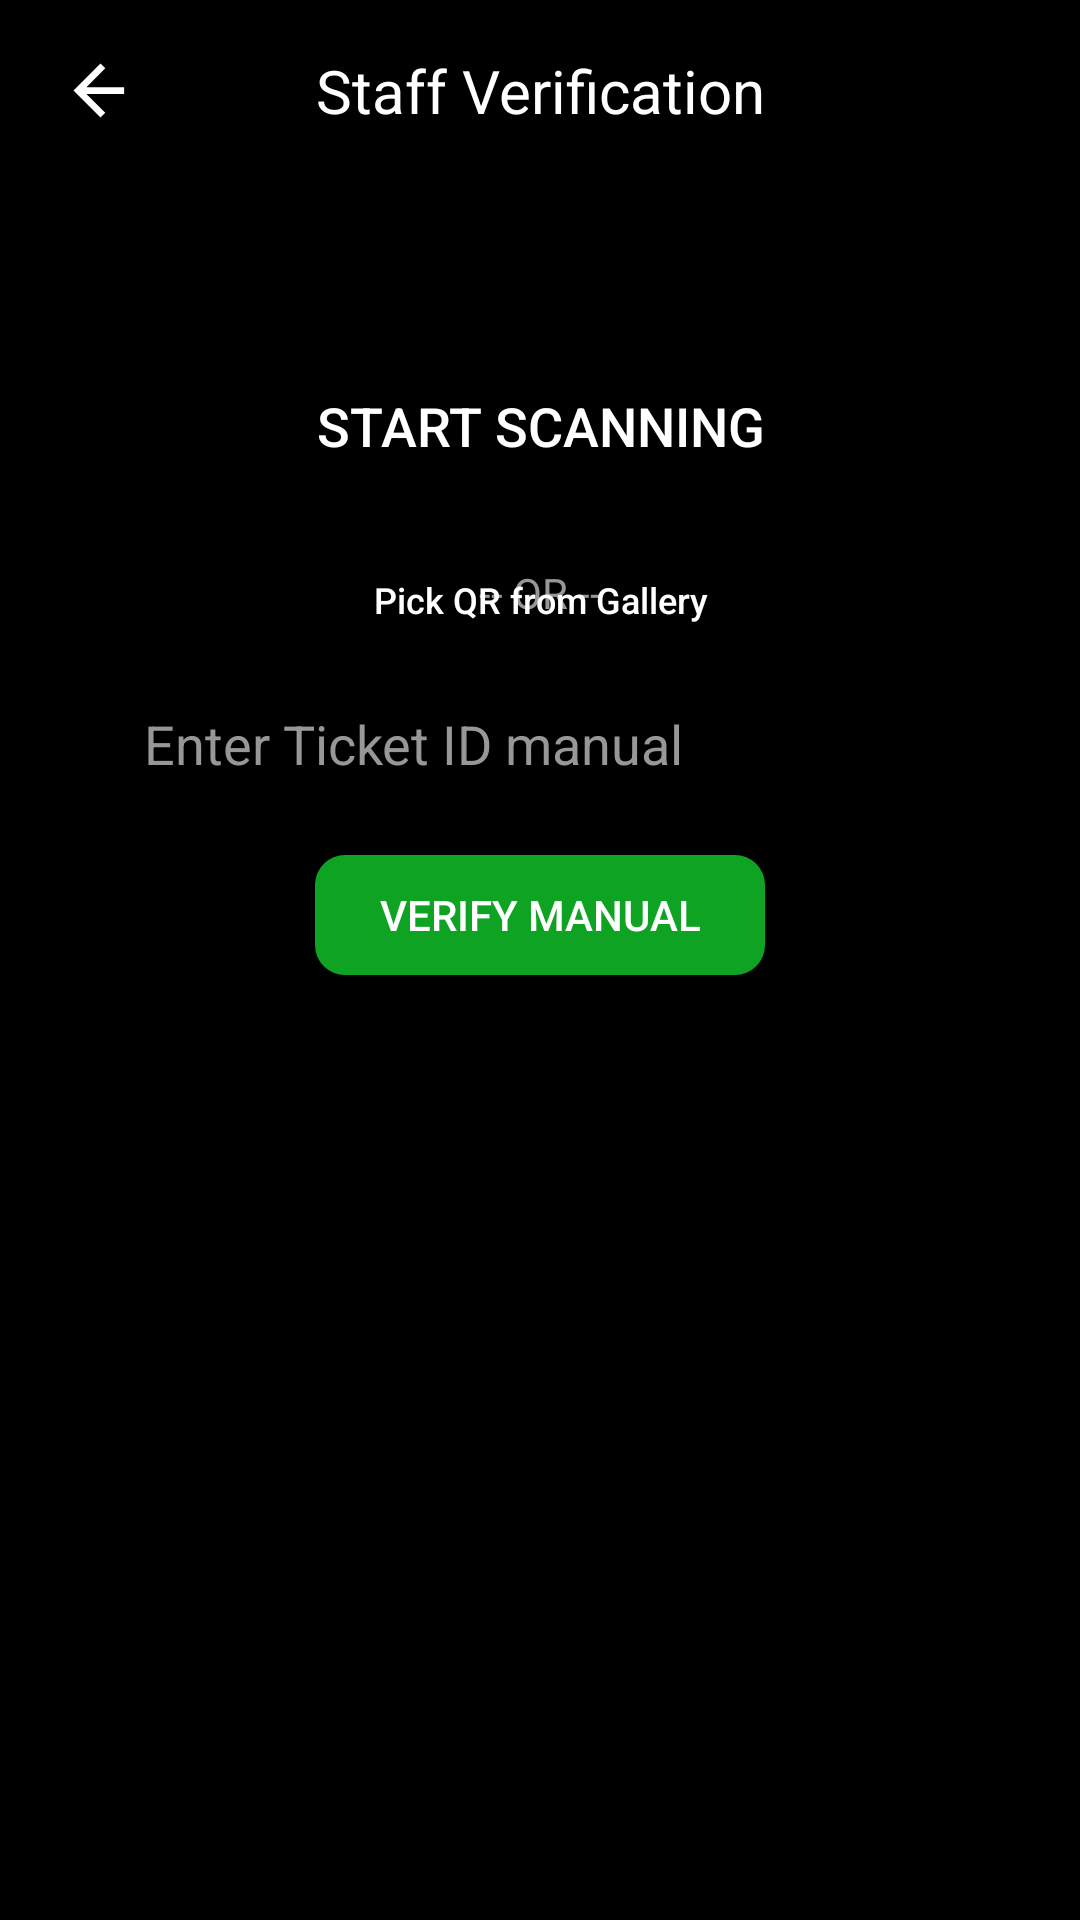

Screen size 1080w x 1920h. Icon name, then its center in pixels as point (x, y):
back: point (99, 90)
